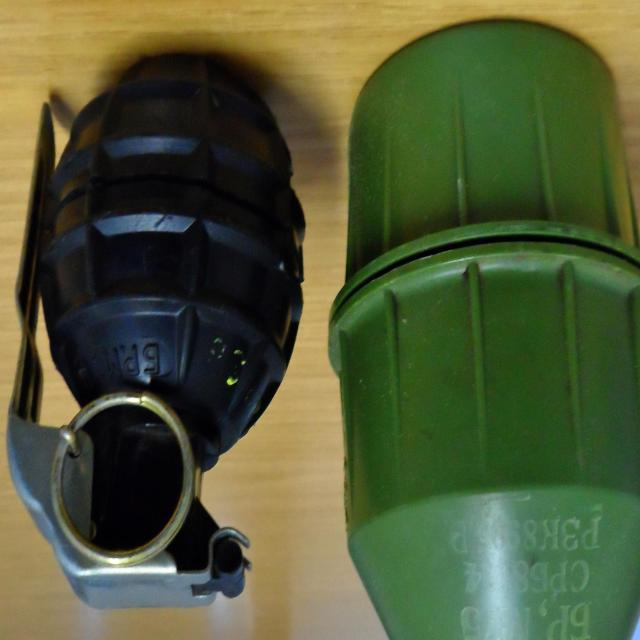grenade: (329, 21, 640, 640), (8, 55, 306, 612)
